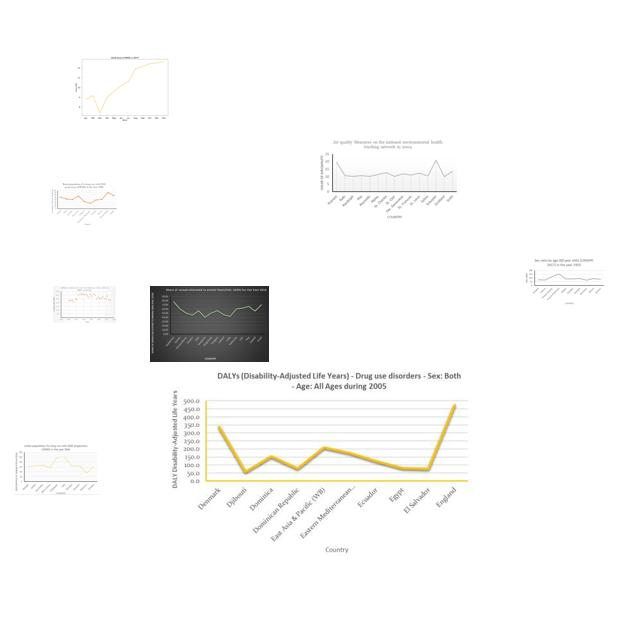Graph: (165, 367, 474, 560), (317, 138, 459, 222), (150, 286, 269, 362), (68, 49, 179, 125), (14, 443, 99, 495), (523, 257, 606, 306), (50, 182, 118, 226), (53, 286, 116, 323)
